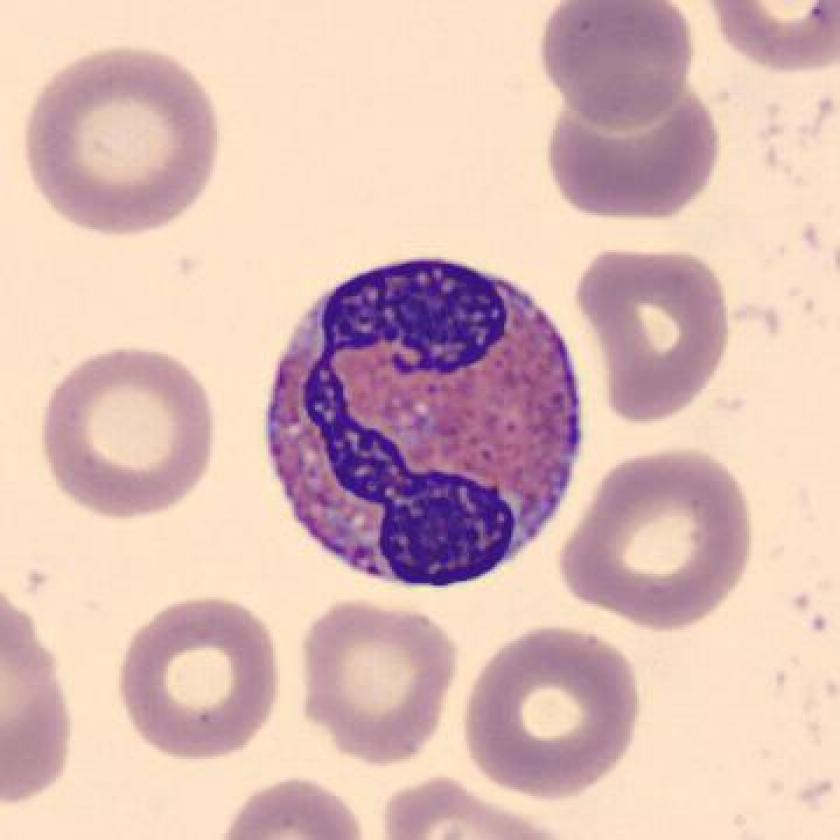eosinophil: (256, 247, 592, 601)
